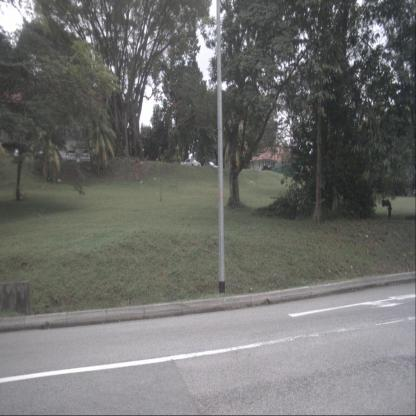vehicle-car: (80, 148, 92, 164), (183, 158, 201, 168), (203, 162, 219, 171), (13, 146, 23, 160), (66, 150, 77, 162), (36, 150, 45, 158)
